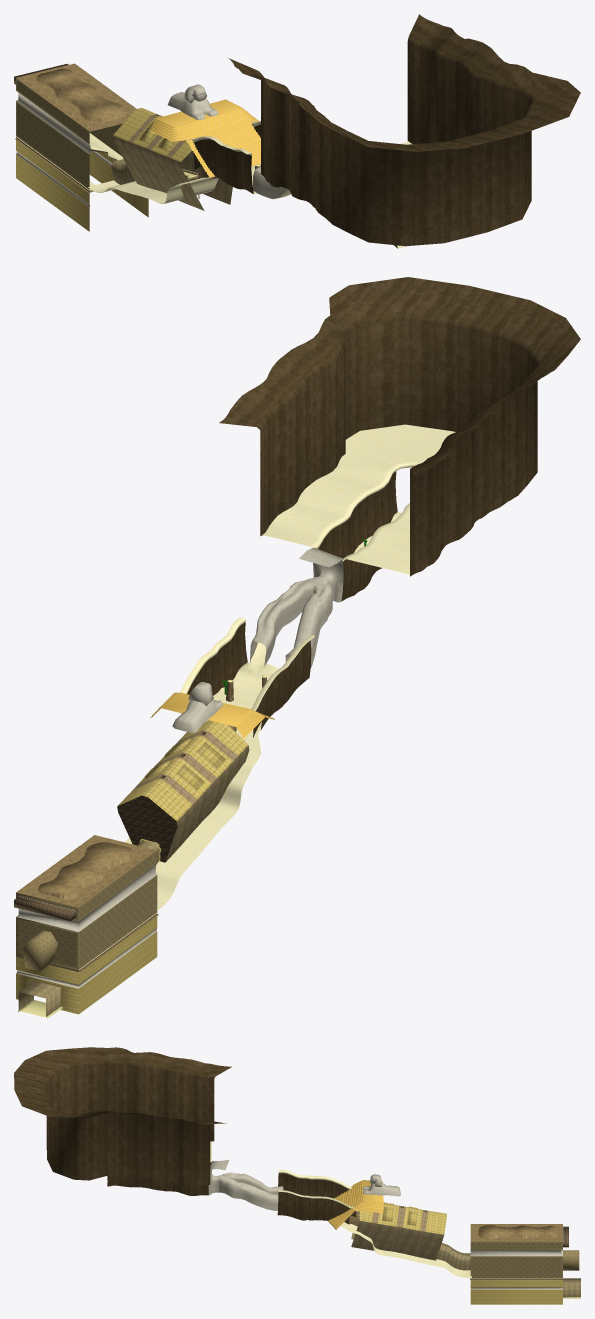
The model's file is F3SandGlide.fbx.
3 renders of one model, top to bottom at view 1: azimuth 30°, elevation 25°; view 2: azimuth 150°, elevation 25°; view 3: azimuth 270°, elevation 25°, orthographic. The views are drawn at different scales.
Visible parts, largest first — view 1: SoilWalls.001, SoilWalls.002, SoilWalls.003, SoilWalls.007, SoilWalls.005, SoilWalls.009, SoilWalls.015, SoilWalls, SoilWalls.008, SoilWalls.011, SoilWalls.012; view 2: SoilWalls.001, SoilWalls, SoilWalls.015, SoilWalls.003, SoilWalls.002, SoilWalls.008, SoilWalls.007, SoilWalls.010, SoilWalls.009, SoilWalls.011, SoilWalls.005; view 3: SoilWalls.001, SoilWalls.015, SoilWalls.003, SoilWalls.009, SoilWalls.007, SoilWalls.002, SoilWalls, SoilWalls.008, SoilWalls.005, SoilWalls.011.
Boxes of the visible parts, x1=… form: SoilWalls.001: x1=193, y1=14, x2=580, y2=248; SoilWalls.002: x1=16, y1=63, x2=136, y2=131; SoilWalls.003: x1=16, y1=78, x2=122, y2=189; SoilWalls.007: x1=16, y1=140, x2=148, y2=231; SoilWalls.005: x1=150, y1=99, x2=260, y2=177; SoilWalls.009: x1=111, y1=135, x2=232, y2=210; SoilWalls.015: x1=16, y1=84, x2=288, y2=207; SoilWalls: x1=15, y1=121, x2=412, y2=248; SoilWalls.008: x1=113, y1=108, x2=191, y2=162; SoilWalls.011: x1=128, y1=114, x2=223, y2=206; SoilWalls.012: x1=15, y1=114, x2=260, y2=192; SoilWalls.001: x1=181, y1=277, x2=580, y2=737; SoilWalls: x1=79, y1=424, x2=455, y2=969; SoilWalls.015: x1=16, y1=547, x2=343, y2=988; SoilWalls.003: x1=16, y1=850, x2=157, y2=971; SoilWalls.002: x1=16, y1=835, x2=156, y2=907; SoilWalls.008: x1=117, y1=720, x2=248, y2=861; SoilWalls.007: x1=16, y1=916, x2=157, y2=1014; SoilWalls.010: x1=14, y1=795, x2=177, y2=920; SoilWalls.009: x1=18, y1=732, x2=249, y2=1017; SoilWalls.011: x1=133, y1=730, x2=238, y2=843; SoilWalls.005: x1=150, y1=692, x2=274, y2=738; SoilWalls.001: x1=14, y1=1047, x2=356, y2=1224; SoilWalls.015: x1=208, y1=1160, x2=562, y2=1289; SoilWalls.003: x1=470, y1=1242, x2=579, y2=1278; SoilWalls.009: x1=351, y1=1211, x2=580, y2=1297; SoilWalls.007: x1=470, y1=1279, x2=562, y2=1304; SoilWalls.002: x1=470, y1=1224, x2=562, y2=1241; SoilWalls: x1=107, y1=1141, x2=562, y2=1278; SoilWalls.008: x1=359, y1=1202, x2=446, y2=1234; SoilWalls.005: x1=328, y1=1180, x2=383, y2=1229; SoilWalls.011: x1=363, y1=1205, x2=428, y2=1256.
Bounding box in the file's own units: 2621611 × 3803559 × 8949029.
Materials: 17 (17 with a texture image).
